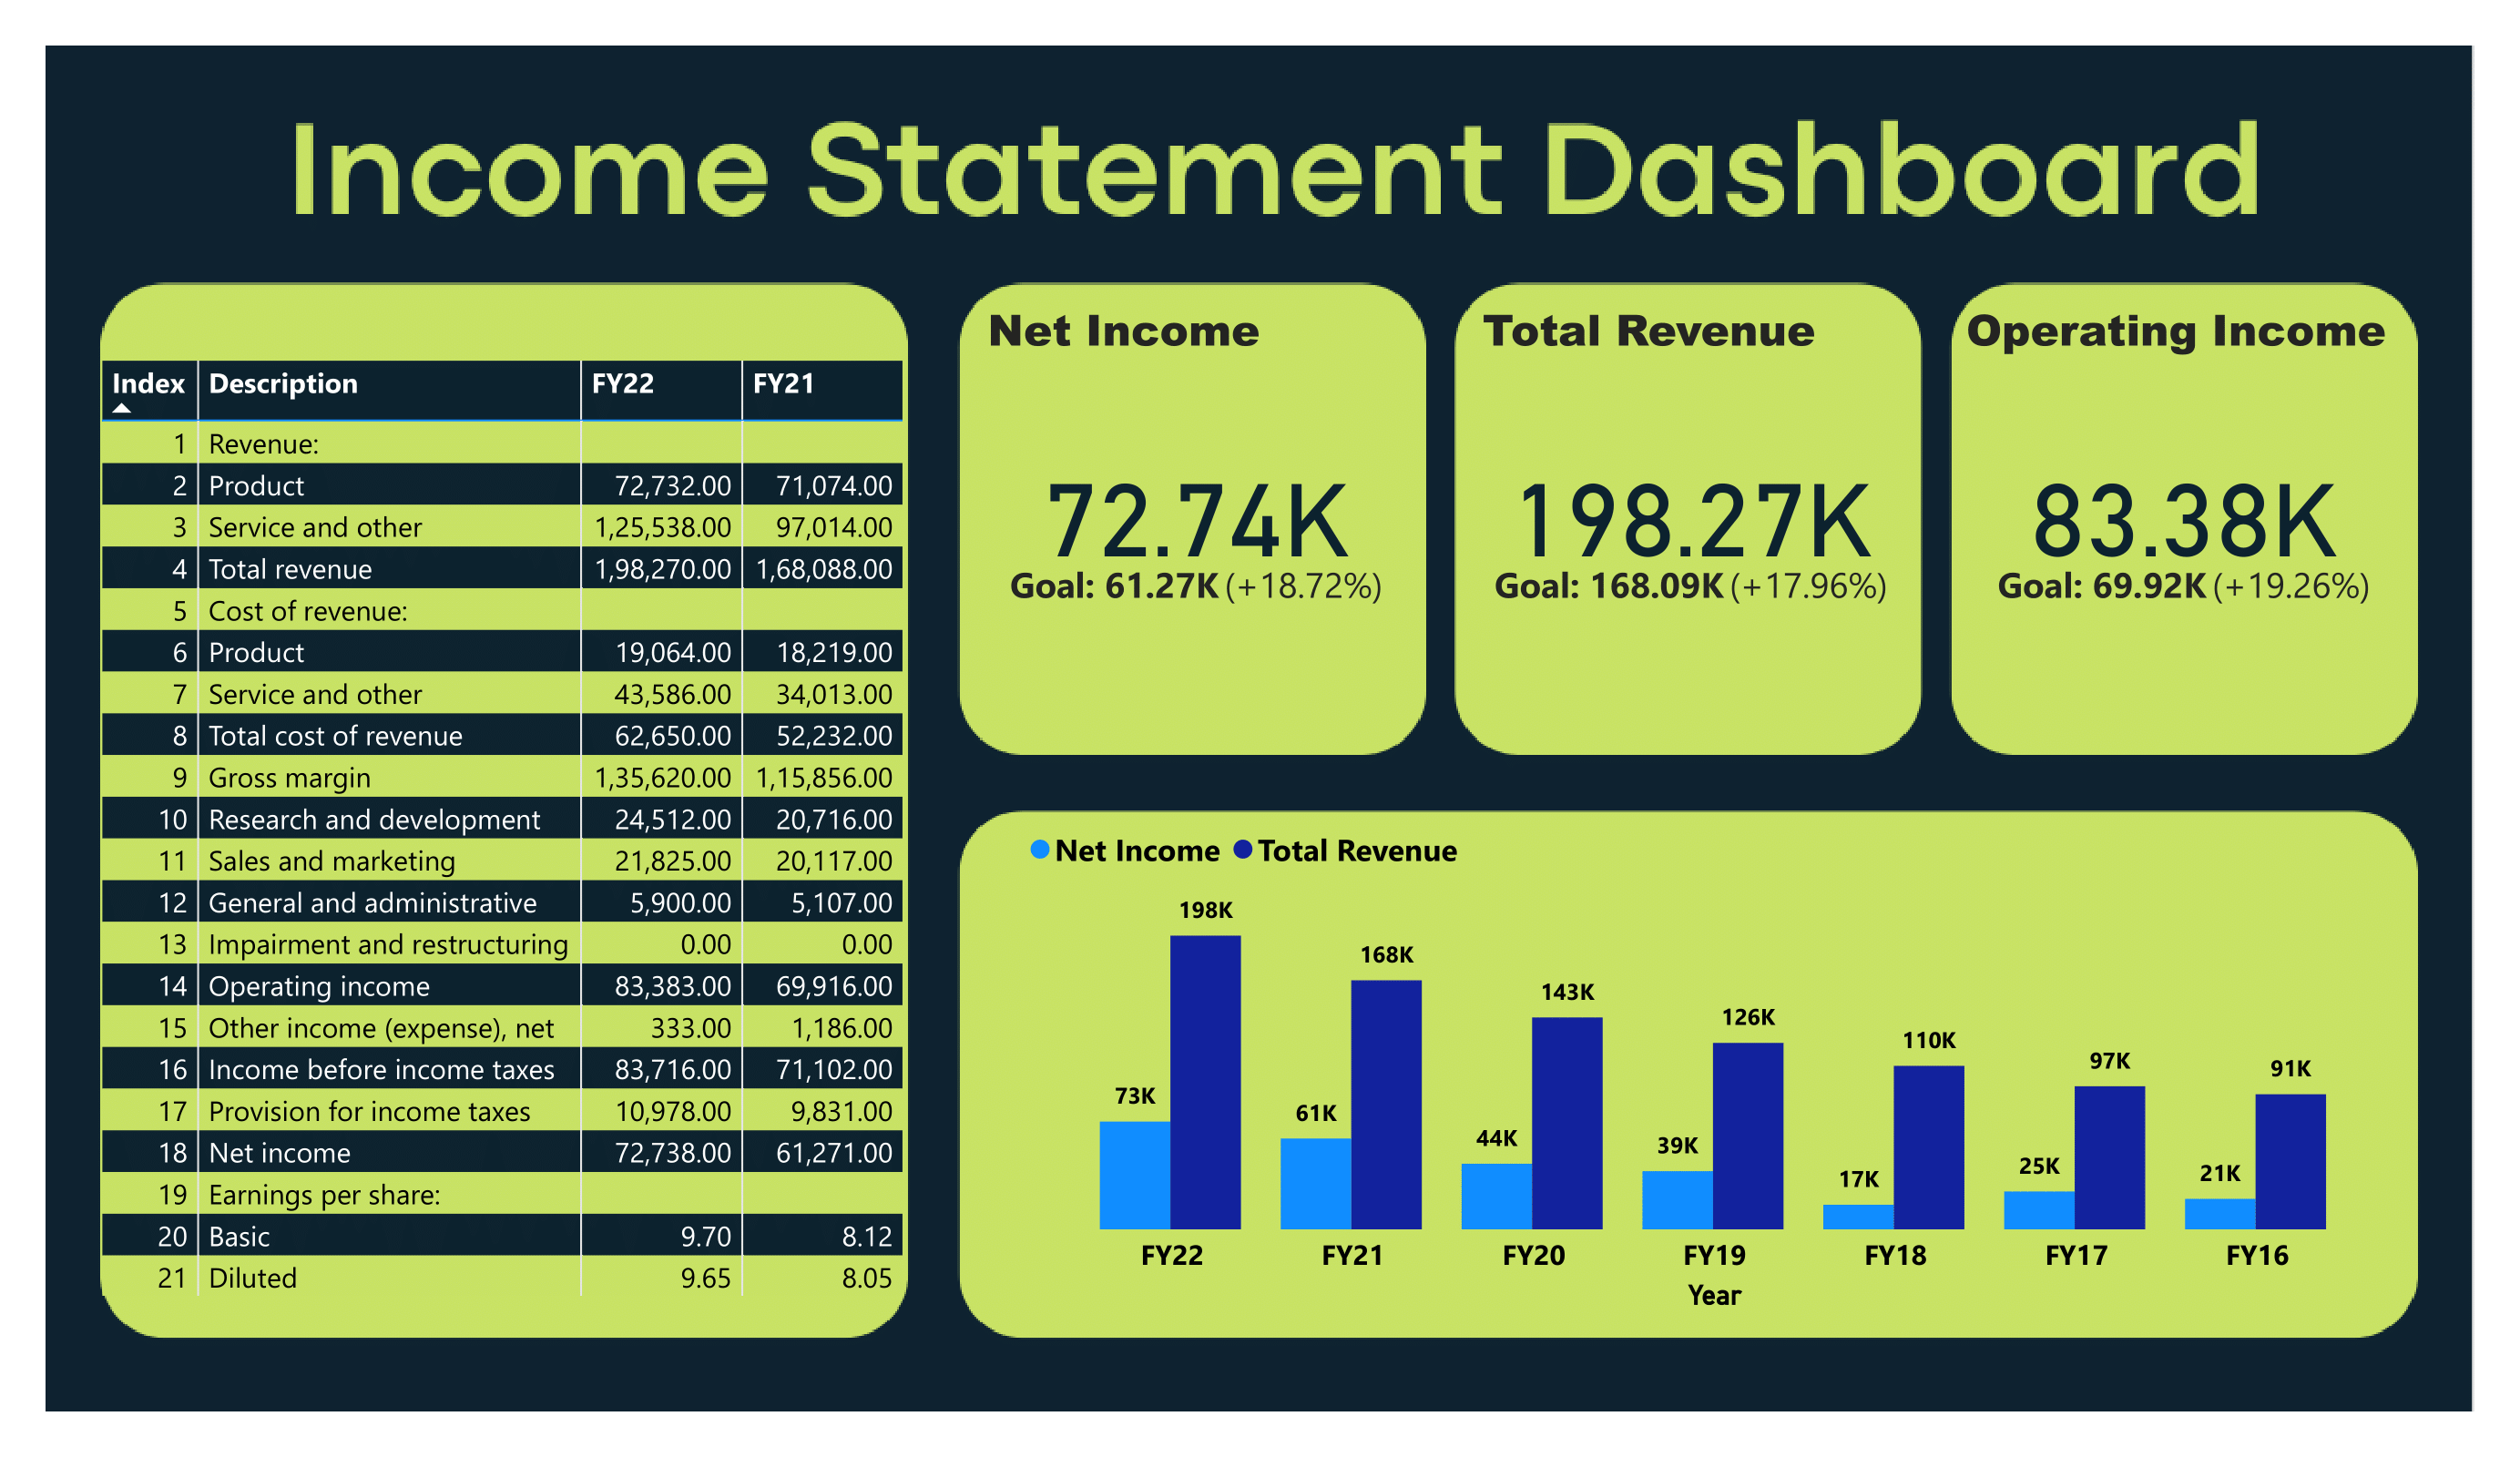

What the dashboard file says about the page in this screenshot:
{"tool":"powerbi","page":{"name":"Page 1","canvas":[1280,720],"ordinal":0},"visuals":[{"type":"tableEx","fields":{"Values":["Yearly Income Statements.Index","Yearly Income Statements.Description","Yearly Income Statements.FY22","Yearly Income Statements.FY21"]},"box":[24.4,160.8,433.6,511.6],"z":0},{"type":"kpi","title":"Net Income","fields":{"Indicator":["Sum(Net Income.FY22)"],"Goal":["Sum(Net Income.FY21)"],"TrendLine":["Net Income.Description"]},"box":[491.7,133.3,230,226.7],"z":1000},{"type":"kpi","title":"Total Revenue","fields":{"TrendLine":["Total Revenue.Description"],"Indicator":["Sum(Total Revenue.FY22)"],"Goal":["Sum(Total Revenue.FY21)"]},"box":[753.3,133.3,230,226.7],"z":2000},{"type":"kpi","title":"Operating Income ","fields":{"TrendLine":["Operating Income.Description"],"Indicator":["Sum(Operating Income.FY22)"],"Goal":["Sum(Operating Income.FY21)"]},"box":[1008.3,133.3,240,226.7],"z":3000},{"type":"clusteredColumnChart","fields":{"Category":["Table.Description"],"Y":["Sum(Table.Net income)","Sum(Table.      Total revenue)"]},"box":[513.3,401.7,735,270],"z":4000}]}

Visuals, with their boxes in screenshot pixels (x1, y1, x2, y2):
tableEx - Yearly Income Statements.Index x Yearly Income Statements.Description: {"x1": 92, "y1": 351, "x2": 914, "y2": 1321}
"Net Income" kpi: {"x1": 979, "y1": 299, "x2": 1415, "y2": 728}
"Total Revenue" kpi: {"x1": 1475, "y1": 299, "x2": 1912, "y2": 728}
"Operating Income " kpi: {"x1": 1959, "y1": 299, "x2": 2414, "y2": 728}
clusteredColumnChart - Table.Description x Sum(Table.Net income): {"x1": 1020, "y1": 808, "x2": 2414, "y2": 1319}
